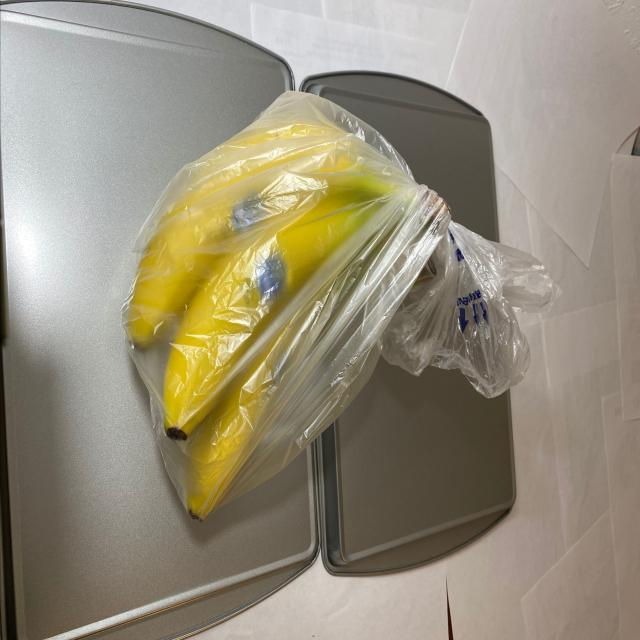banana: (116, 103, 456, 528)
